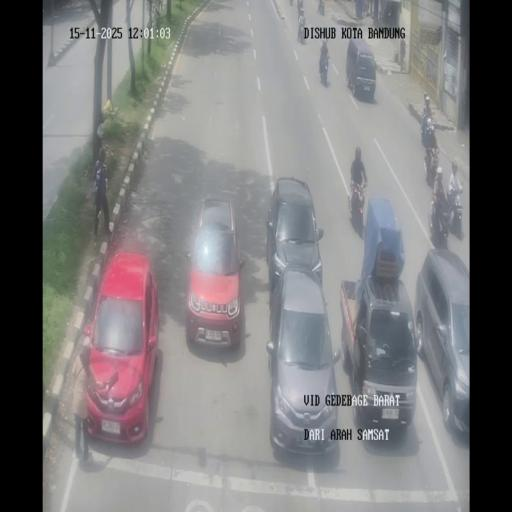car: (83, 252, 159, 444), (266, 267, 340, 456), (340, 273, 418, 436), (414, 252, 470, 440), (346, 38, 376, 101)
truck: (429, 194, 448, 244), (349, 178, 365, 234), (448, 186, 464, 238), (424, 142, 440, 186), (319, 52, 329, 86), (421, 113, 432, 143), (297, 12, 306, 43), (296, 0, 304, 17), (378, 4, 384, 22), (363, 0, 369, 17), (318, 1, 324, 15), (290, 0, 294, 6)
